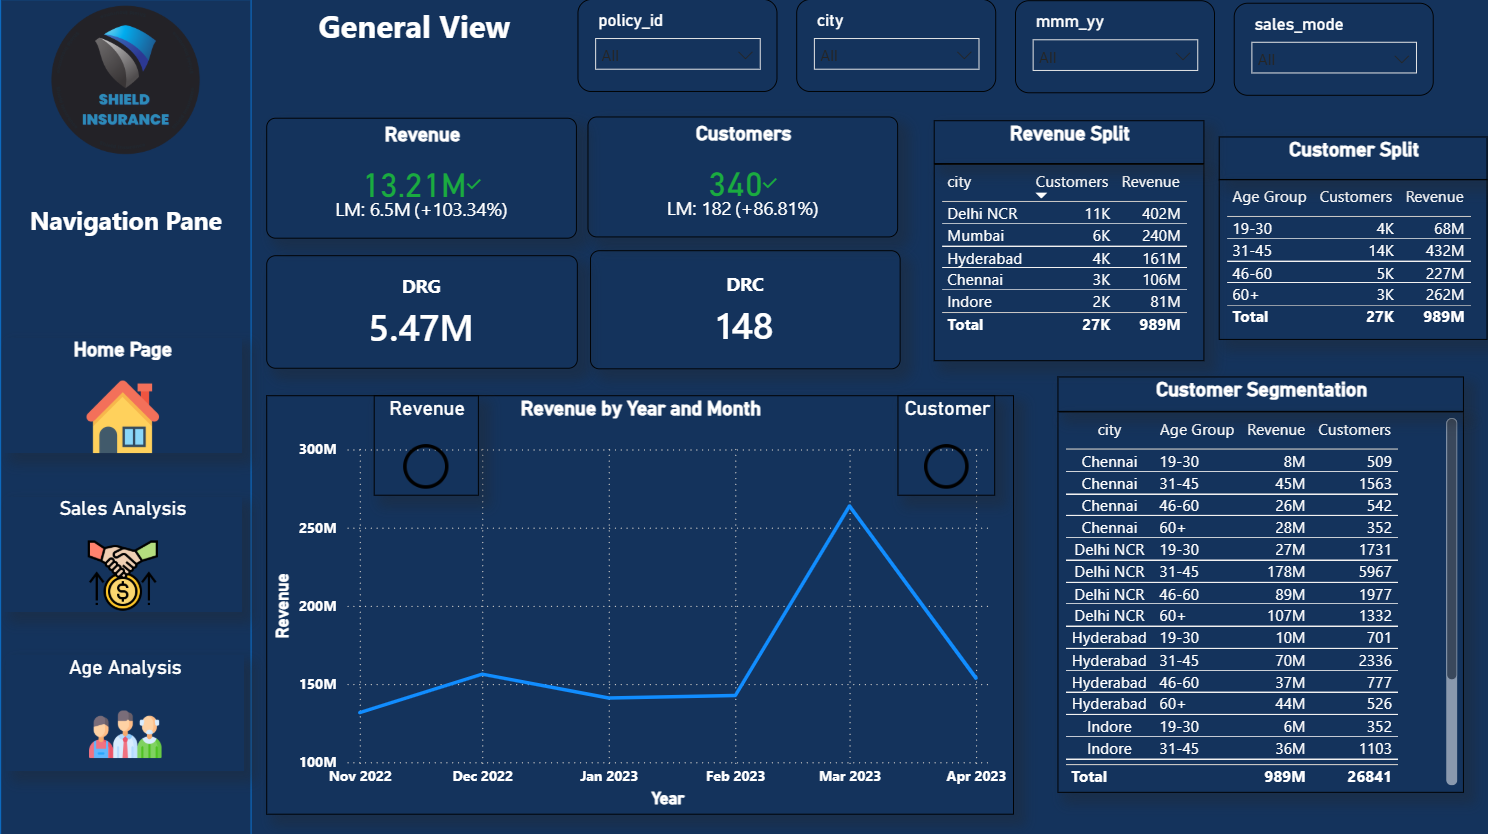

What the dashboard file says about the page in this screenshot:
{"tool":"powerbi","page":{"name":"Overview","canvas":[1280,720],"ordinal":1},"visuals":[{"type":"kpi","title":"Revenue ","fields":{"Goal":["Measures (2).pmr"],"Indicator":["Measures (2).Revenue"],"TrendLine":["dim_date.date"]},"box":[229.4,102.6,267.2,104.2],"z":0},{"type":"shape","box":[0,0,216.5,720.4],"z":1000},{"type":"kpi","title":"Customers","fields":{"Goal":["Measures (2).LM_Customers"],"Indicator":["Measures (2).Customers"],"TrendLine":["dim_date.date"]},"box":[505.7,101.1,267.2,104.2],"z":2000},{"type":"tableEx","fields":{"Values":["dim_customer.city","Measures (2).Customers","Measures (2).Revenue"]},"box":[803.4,141.6,232.7,169.2],"z":3000},{"type":"cardVisual","fields":{"Data":["Measures (2).DRG"]},"box":[229.2,220.8,267.8,97.7],"z":4000},{"type":"textbox","title":"Revenue Split","box":[803.4,104.3,232.7,37.3],"z":5000},{"type":"cardVisual","fields":{"Data":["Measures (2).DRC"]},"box":[507.2,215.8,267.2,102.6],"z":6000},{"type":"tableEx","fields":{"Values":["dim_customer.Age Group","Measures (2).Customers","Measures (2).Revenue"]},"box":[1048.7,155.2,231.4,138.1],"z":7000},{"type":"textbox","title":"Customer Split","box":[1048.7,117.9,231.4,37.3],"z":8000},{"type":"image","title":"Sales Analysis","box":[3.7,427.7,205,99.5],"z":9000},{"type":"image","title":"Age Analysis","box":[5,564.9,205,99],"z":10000},{"type":"slicer","fields":{"Values":["dim_date.mmm_yy"]},"box":[873,1.5,172,80],"z":11000},{"type":"image","title":"Home Page","box":[3.7,291.1,205,99],"z":12000},{"type":"slicer","fields":{"Values":["dim_customer.city"]},"box":[684.8,0,172,80],"z":13000},{"type":"slicer","fields":{"Values":["dim_policies.policy_id"]},"box":[496.6,0,172.1,80],"z":14000},{"type":"textbox","box":[215.8,0,280.8,81.5],"z":15000},{"type":"textbox","box":[0,170.5,216.5,70.9],"z":16000},{"type":"image","box":[0,0,216.5,139.3],"z":17000},{"type":"slicer","fields":{"Values":["fact_premiums.sales_mode"]},"box":[1061.1,3,172,80],"z":18000},{"type":"lineChart","fields":{"Category":["dim_date.date.Variation.Date Hierarchy.Year","dim_date.date.Variation.Date Hierarchy.Month"],"Y":["Measures (2).Revenue"]},"box":[229.3,341.1,642.9,360.7],"z":19000},{"type":"image","title":"Revenue","box":[321.5,341.1,90.2,86.2],"z":22000},{"type":"image","title":"Customer","box":[772.3,341.1,84.3,86.2],"z":23000},{"type":"tableEx","fields":{"Values":["dim_customer.city","dim_customer.Age Group","Measures (2).Revenue","Measures (2).Customers"]},"box":[909.7,354.7,349.9,328.2],"z":24000},{"type":"textbox","title":"Customer Segmentation","box":[909.7,324.5,349.9,30.2],"z":25000}]}

Visuals, with their boxes in screenshot pixels (x1, y1, x2, y2), scaled from the page's 1280x720 canvas onto the 1489x834 screenshot:
"Revenue " kpi: Rect(267, 119, 578, 240)
shape: Rect(0, 0, 252, 833)
"Customers" kpi: Rect(588, 117, 899, 238)
tableEx - dim_customer.city x Measures (2).Customers: Rect(935, 164, 1205, 360)
cardVisual - Measures (2).DRG: Rect(267, 256, 578, 369)
"Revenue Split" textbox: Rect(935, 121, 1205, 164)
cardVisual - Measures (2).DRC: Rect(590, 250, 901, 369)
tableEx - dim_customer.Age Group x Measures (2).Customers: Rect(1220, 180, 1488, 340)
"Customer Split" textbox: Rect(1220, 137, 1488, 180)
"Sales Analysis" image: Rect(4, 495, 243, 611)
"Age Analysis" image: Rect(6, 654, 244, 769)
slicer - dim_date.mmm_yy: Rect(1016, 2, 1216, 94)
"Home Page" image: Rect(4, 337, 243, 452)
slicer - dim_customer.city: Rect(797, 0, 997, 93)
slicer - dim_policies.policy_id: Rect(578, 0, 778, 93)
textbox: Rect(251, 0, 578, 94)
textbox: Rect(0, 197, 252, 280)
image: Rect(0, 0, 252, 161)
slicer - fact_premiums.sales_mode: Rect(1234, 3, 1434, 96)
lineChart - dim_date.date.Variation.Date Hierarchy.Year x dim_date.date.Variation.Date Hierarchy.Month: Rect(267, 395, 1015, 813)
"Revenue" image: Rect(374, 395, 479, 495)
"Customer" image: Rect(898, 395, 996, 495)
tableEx - dim_customer.city x dim_customer.Age Group: Rect(1058, 411, 1465, 791)
"Customer Segmentation" textbox: Rect(1058, 376, 1465, 411)
